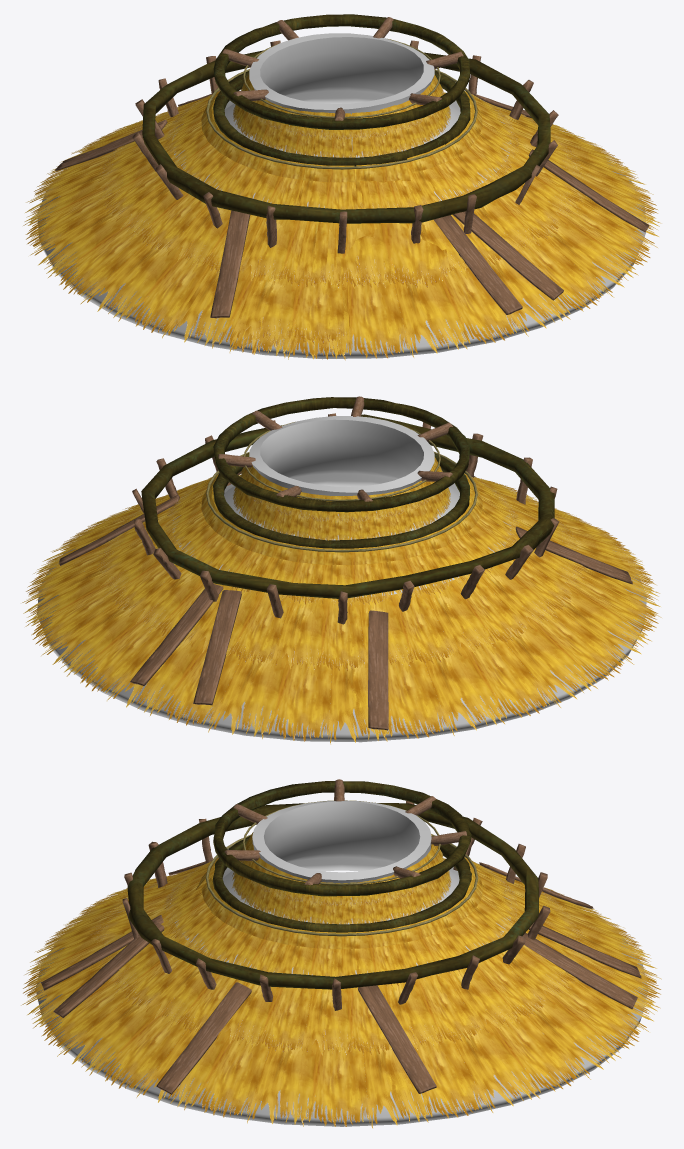
Rendered from SM_roof_complex.fbx.
The picture shows the model from 3 angles, top to bottom: view 1: azimuth 30°, elevation 25°; view 2: azimuth 150°, elevation 25°; view 3: azimuth 270°, elevation 25°; orthographic projection.
Parts seen in each view (by area): view 1: roof_complex; view 2: roof_complex; view 3: roof_complex.
Boxes of the visible parts, x1,y1,x2,y2 form: roof_complex: (23,14,661,360); roof_complex: (22,396,661,744); roof_complex: (21,779,661,1128).
Size of the model in its own units: 2306 by 649 by 2306.
